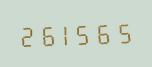five: (113, 18, 131, 45), (75, 20, 93, 46)
one: (56, 20, 74, 47)
six: (36, 21, 54, 47), (94, 19, 112, 45)
two: (17, 22, 35, 48)
